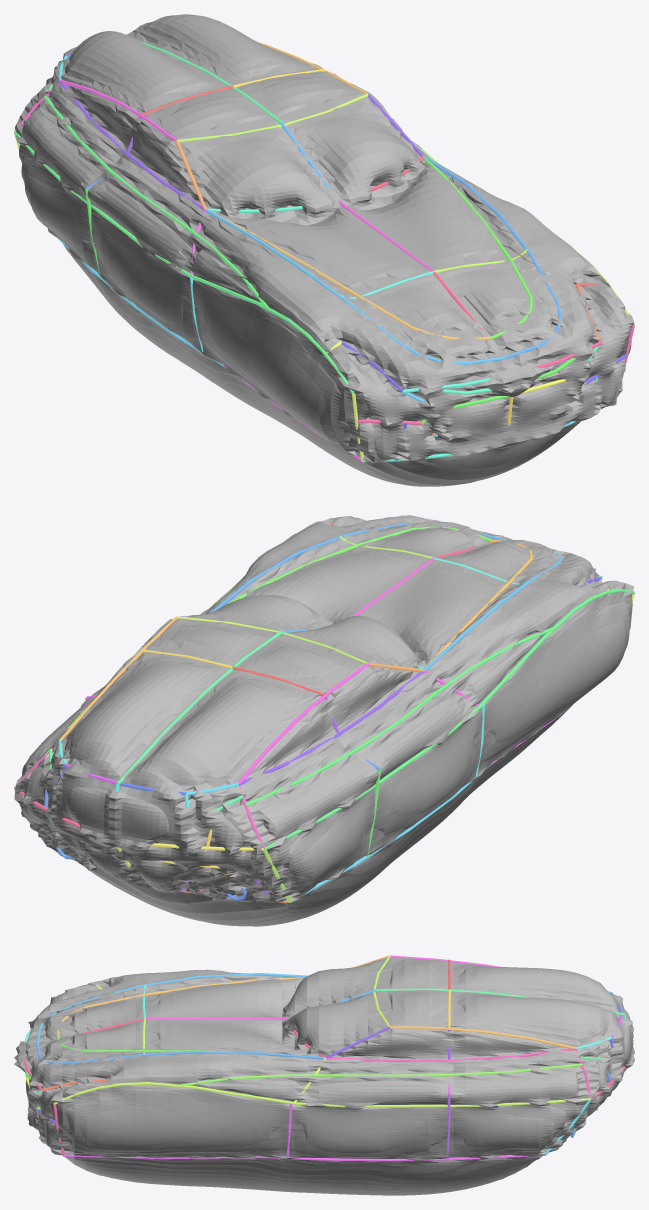
Rendered from ils_car1.gltf.
3 renders of one model, top to bottom at view 1: azimuth 30°, elevation 25°; view 2: azimuth 150°, elevation 25°; view 3: azimuth 270°, elevation 25°, orthographic. The views are drawn at different scales.
Size of the model in its own units: 0.4077 by 0.3047 by 0.9262.
